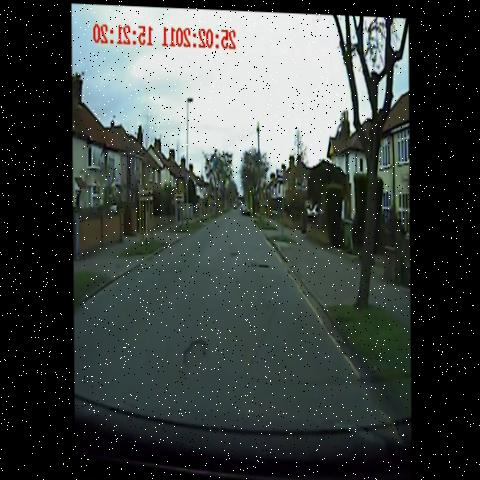pothole: (181, 321, 211, 381), (248, 248, 275, 279), (227, 239, 243, 258)
